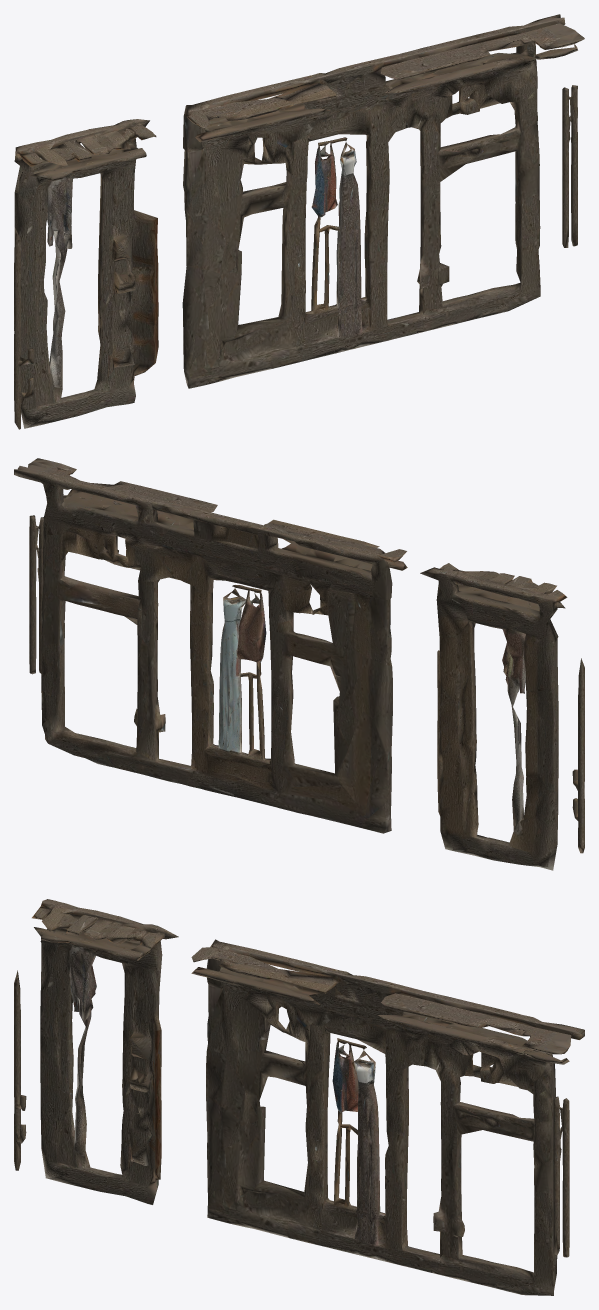
File: schneiderei.glb
The picture shows the model from 3 angles, top to bottom: view 1: azimuth 30°, elevation 25°; view 2: azimuth 150°, elevation 25°; view 3: azimuth 330°, elevation 25°; orthographic projection.
Bounding box in the file's own units: 1.9 × 0.9066 × 0.1507.
Materials: 1 (1 with a texture image).
